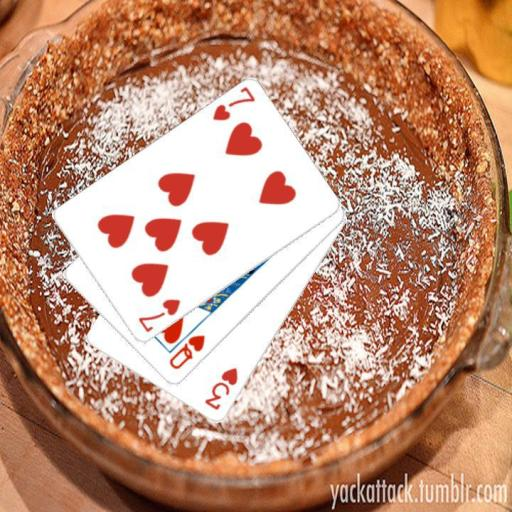3H: (201, 365, 240, 412)
7H: (209, 83, 257, 123), (134, 296, 182, 335)
QH: (166, 332, 207, 371)
